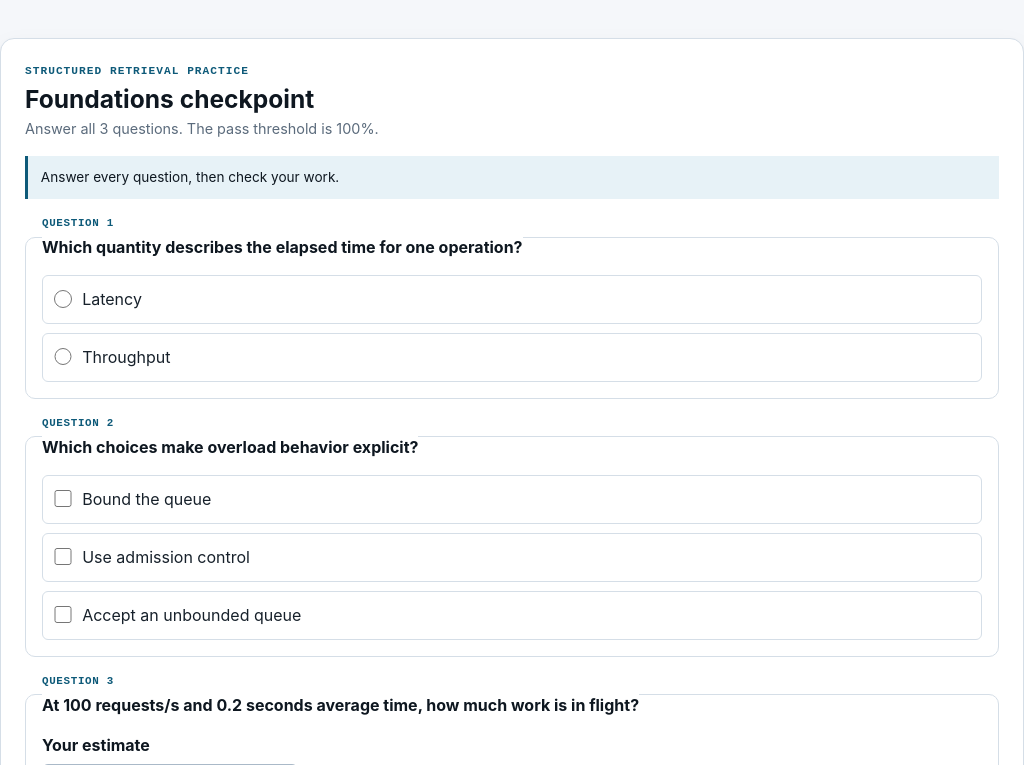
Test: QuizPanel › renders a repository rejection without marking the result as unsaved success
Click the radio button labelled "Latency" at point(63, 299), box [54,290,72,308]
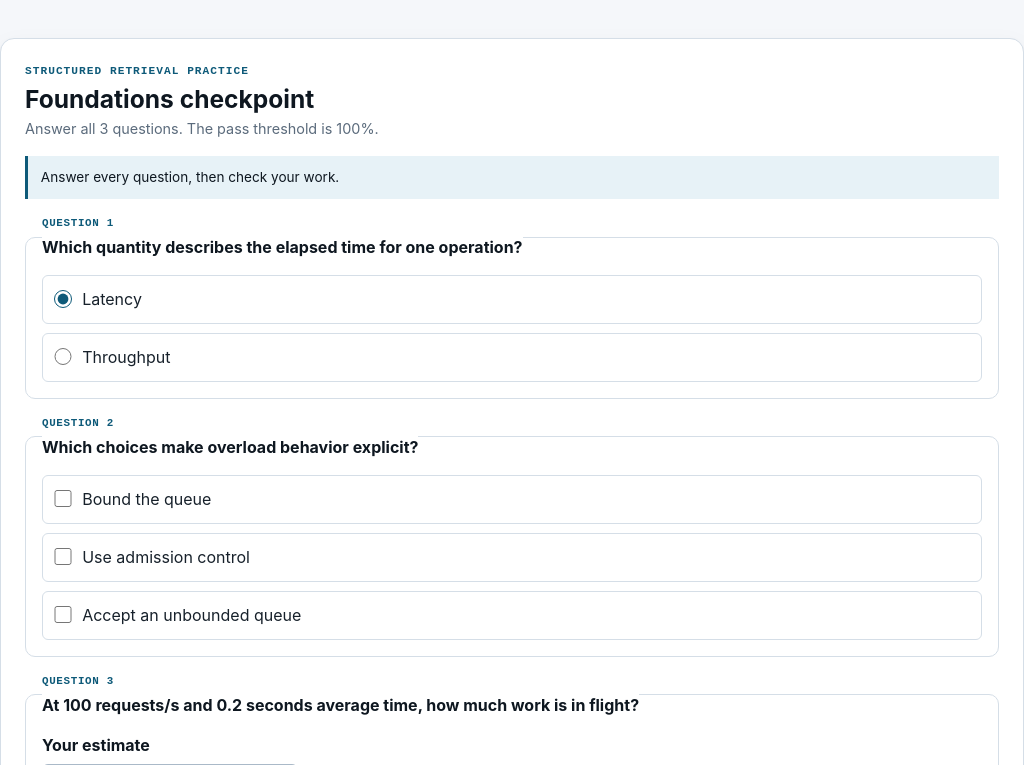
Click the checkbox labelled "Bound the queue" at point(63, 499), box [54,490,72,507]
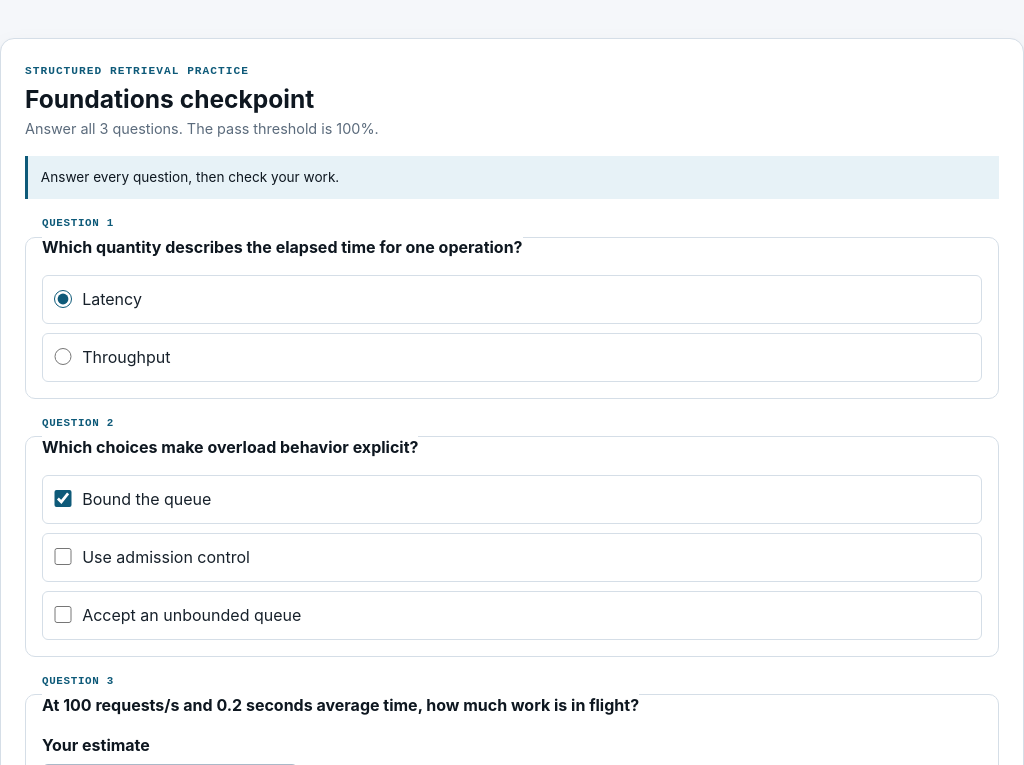
Click the checkbox labelled "Use admission control" at point(63, 557), box [54,548,72,565]
(page scrolled)
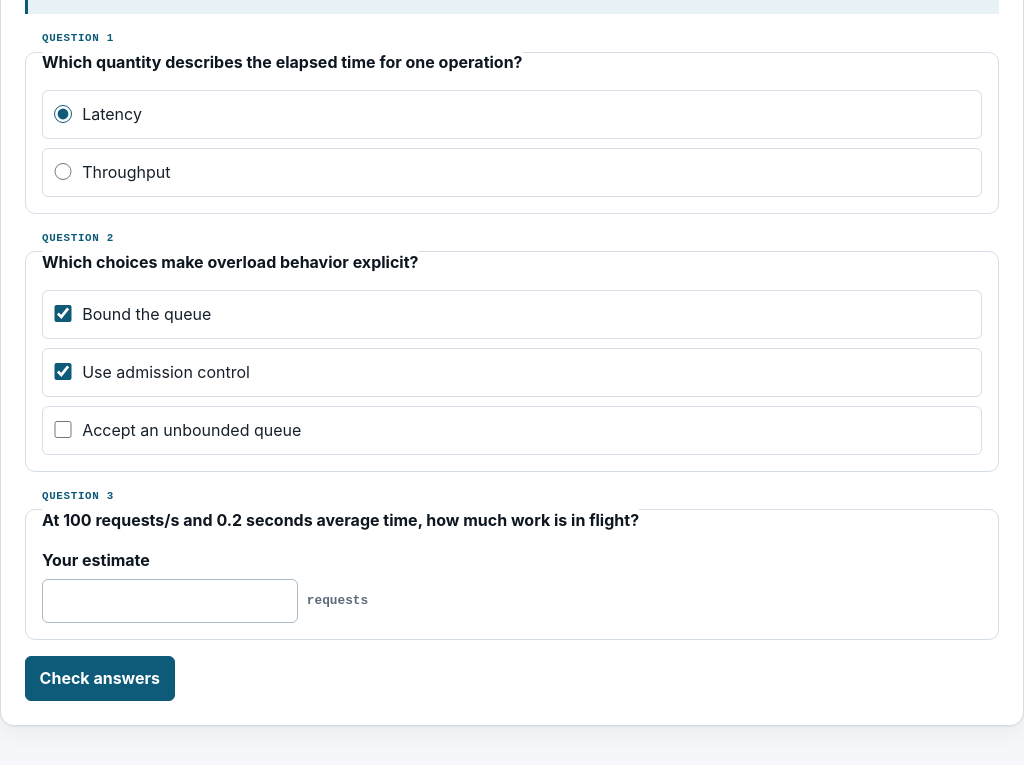
Type "20" into the number field at point(170, 601), box [42,579,298,623]
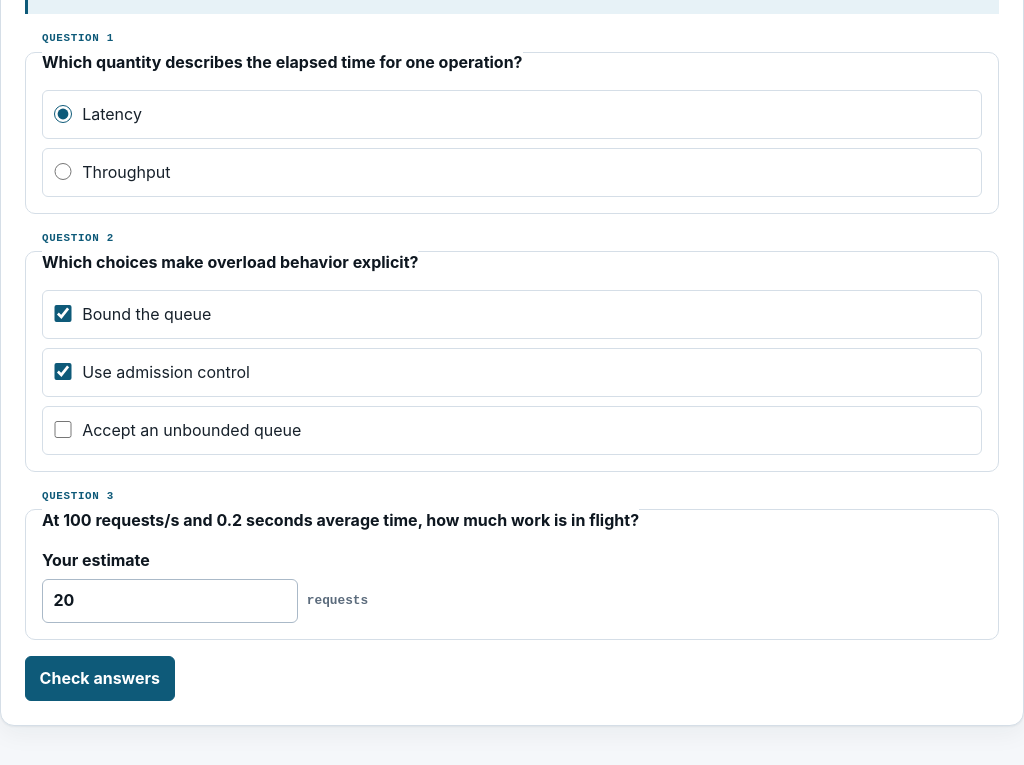
Submit the form named "Quiz answers"
(page scrolled)
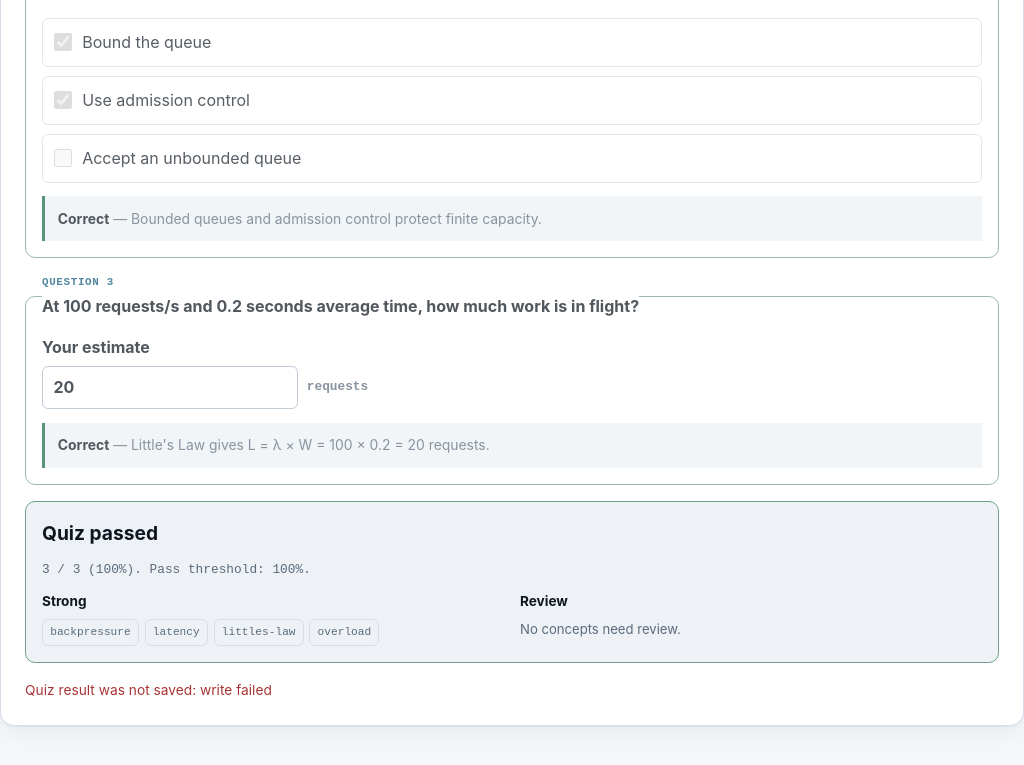
Expected: the message "Quiz result was not saved: write failed" is shown, [25,682,272,698]
